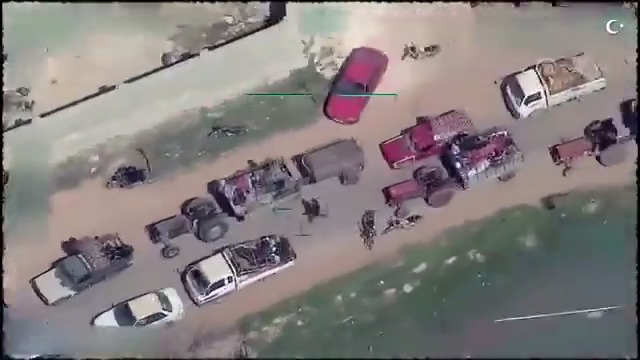arac: (141, 131, 366, 263), (140, 125, 358, 260), (384, 129, 541, 215), (181, 230, 310, 312), (501, 40, 614, 129), (25, 223, 134, 307), (378, 99, 478, 170), (545, 114, 637, 185), (321, 38, 391, 130), (205, 107, 252, 144), (399, 33, 447, 68), (383, 209, 430, 243), (351, 206, 381, 249)
